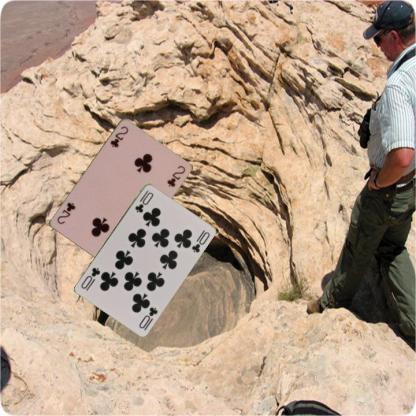10c: (136, 304, 159, 332), (132, 187, 155, 214)
2c: (107, 123, 130, 149)
